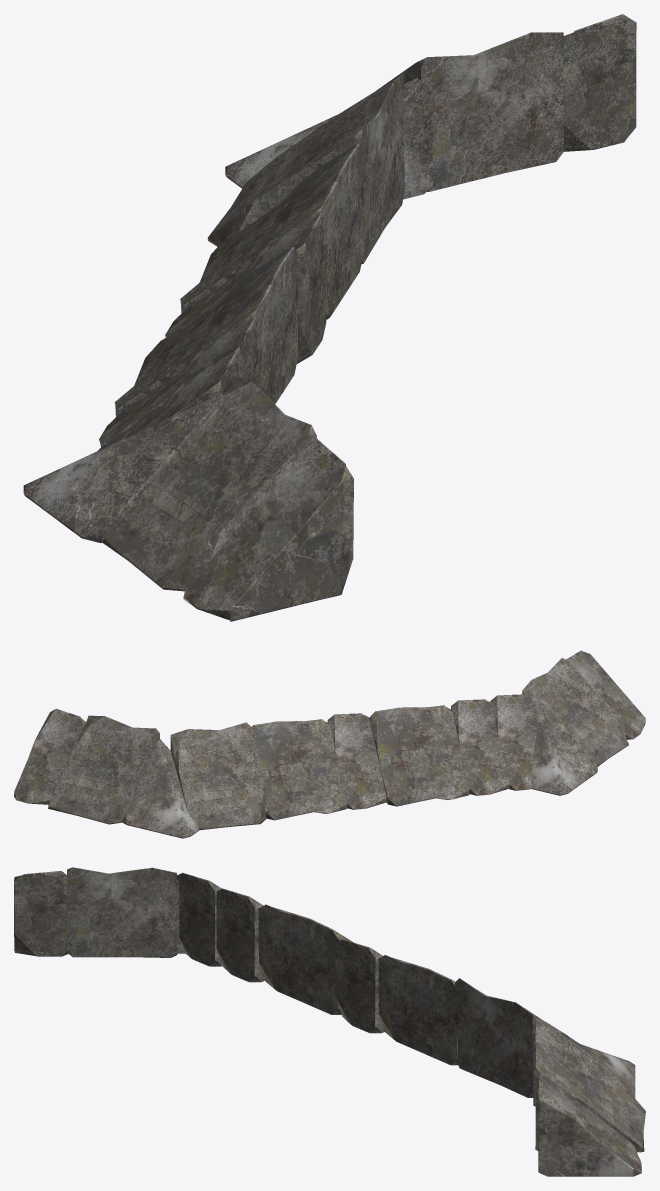
File: SM_CastleTower_WallTopper_A_04.fbx
3 views of the same model, one above another, from view 1: azimuth 30°, elevation 25°; view 2: azimuth 150°, elevation 25°; view 3: azimuth 270°, elevation 25° (orthographic). The views are drawn at different scales.
Visible parts, largest first — view 1: SM_CastleTower_WallTopper_A_04_LOD0; view 2: SM_CastleTower_WallTopper_A_04_LOD0; view 3: SM_CastleTower_WallTopper_A_04_LOD0.
Part boxes in pixels (x1=…): SM_CastleTower_WallTopper_A_04_LOD0: x1=23, y1=14, x2=636, y2=621; SM_CastleTower_WallTopper_A_04_LOD0: x1=14, y1=650, x2=645, y2=838; SM_CastleTower_WallTopper_A_04_LOD0: x1=14, y1=867, x2=645, y2=1176.
Bounding box in the file's own units: 308 × 306 × 48.5.
